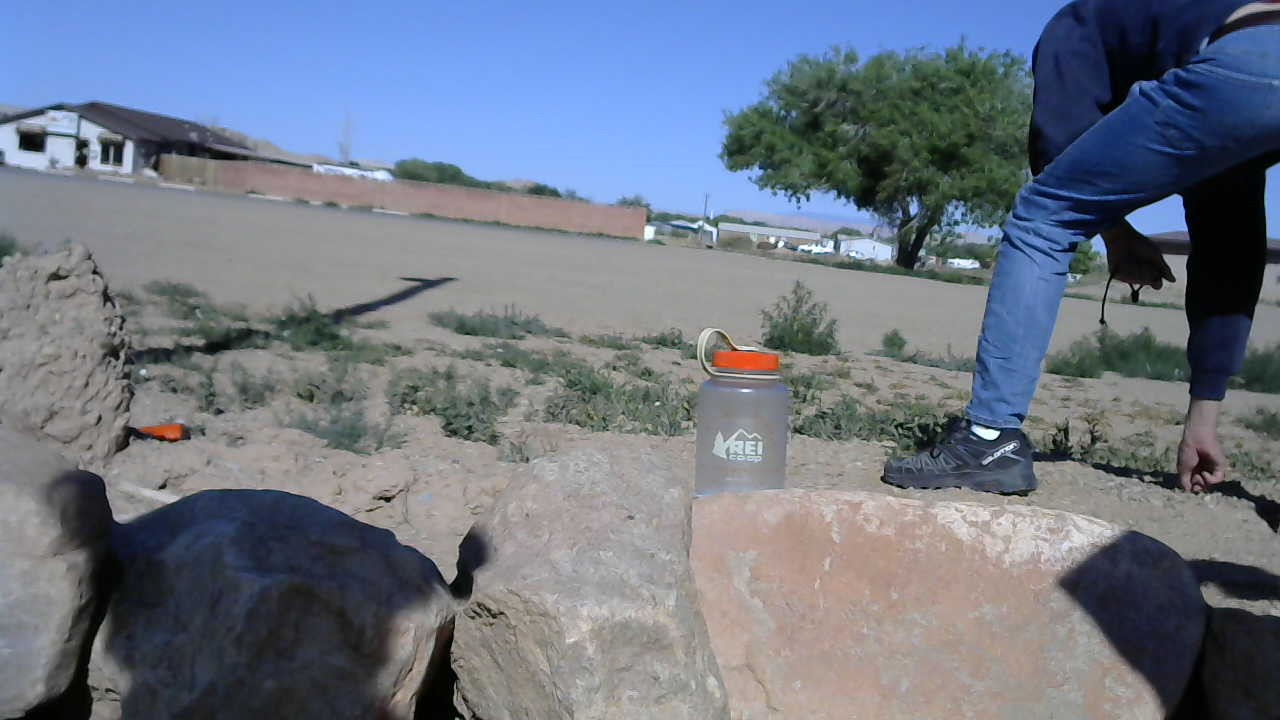hammer: (694, 320, 792, 496), (132, 405, 195, 448)
